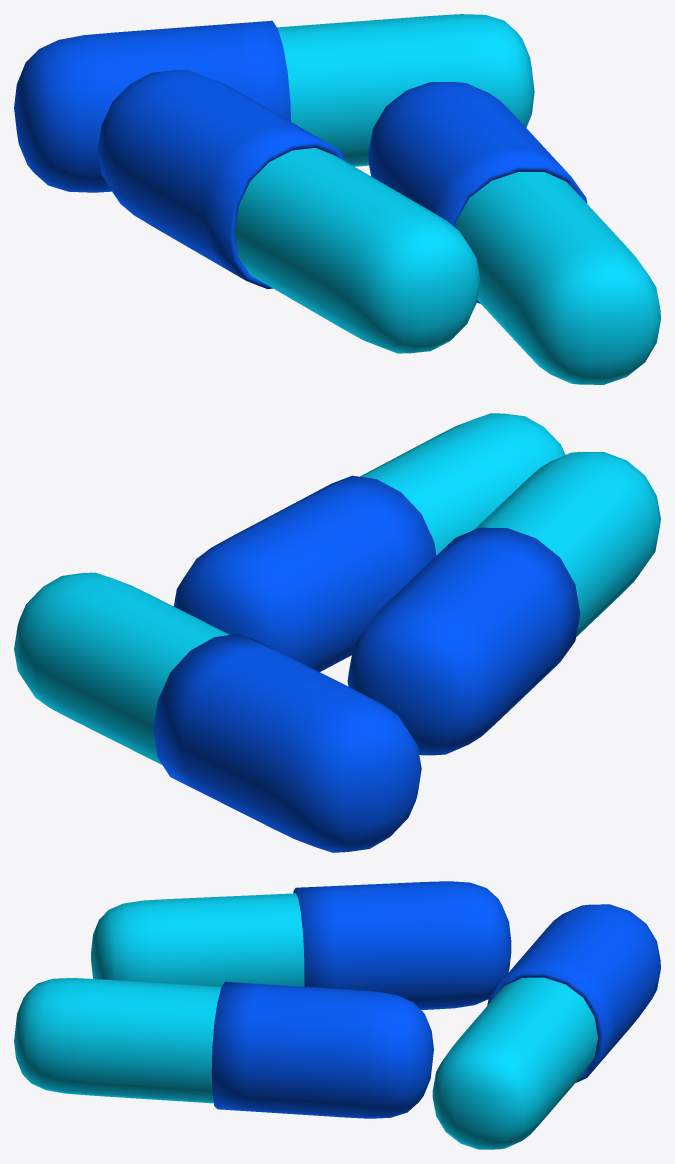
File: Pills.fbx
3 renders of one model, top to bottom at view 1: azimuth 30°, elevation 25°; view 2: azimuth 150°, elevation 25°; view 3: azimuth 270°, elevation 25°, orthographic. The views are drawn at different scales.
Visible parts, largest first — view 1: Cube.098; view 2: Cube.098; view 3: Cube.098.
Boxes of the visible parts, x1,y1,x2,y2 form: Cube.098: [14, 14, 660, 384]; Cube.098: [14, 413, 660, 852]; Cube.098: [14, 881, 660, 1149].
Size of the model in its own units: 0.4302 by 0.1613 by 0.6821.
